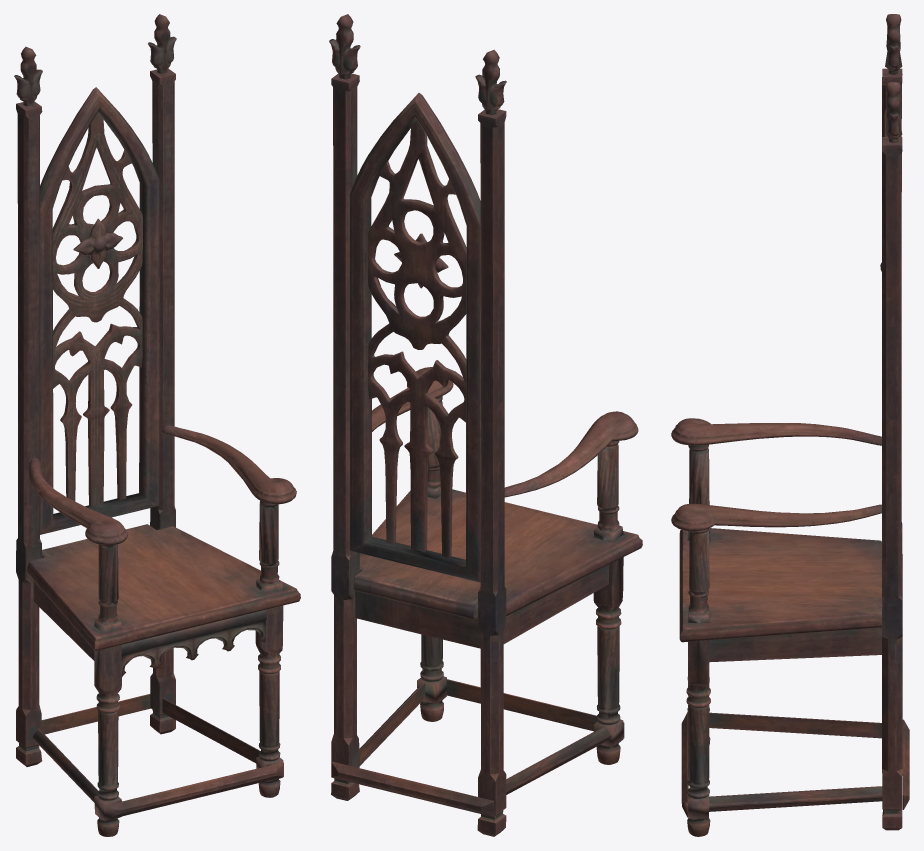
Rendered from WoodenChair_01.glb.
The picture shows the model from 3 angles, left to right: view 1: azimuth 30°, elevation 25°; view 2: azimuth 150°, elevation 25°; view 3: azimuth 270°, elevation 25°; orthographic projection. The views are drawn at different scales.
Visible parts, largest first — view 1: WoodenChair_01; view 2: WoodenChair_01; view 3: WoodenChair_01.
Boxes of the visible parts, x1,y1,x2,y2 form: WoodenChair_01: (14,14,300,836); WoodenChair_01: (329,14,642,836); WoodenChair_01: (671,14,909,836).
Bounding box in the file's own units: 0.6881 × 2.27 × 0.6584.
1 material, 1 textured.
